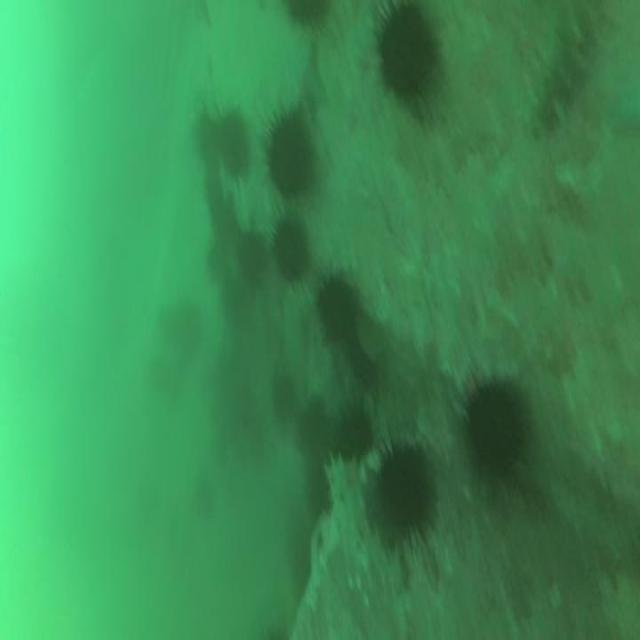echinus: (468, 380, 524, 476), (381, 7, 431, 94), (380, 447, 430, 531), (266, 114, 314, 196), (318, 272, 357, 344), (217, 116, 251, 180), (274, 223, 308, 280), (299, 397, 329, 455), (338, 406, 368, 454), (240, 226, 265, 283)
